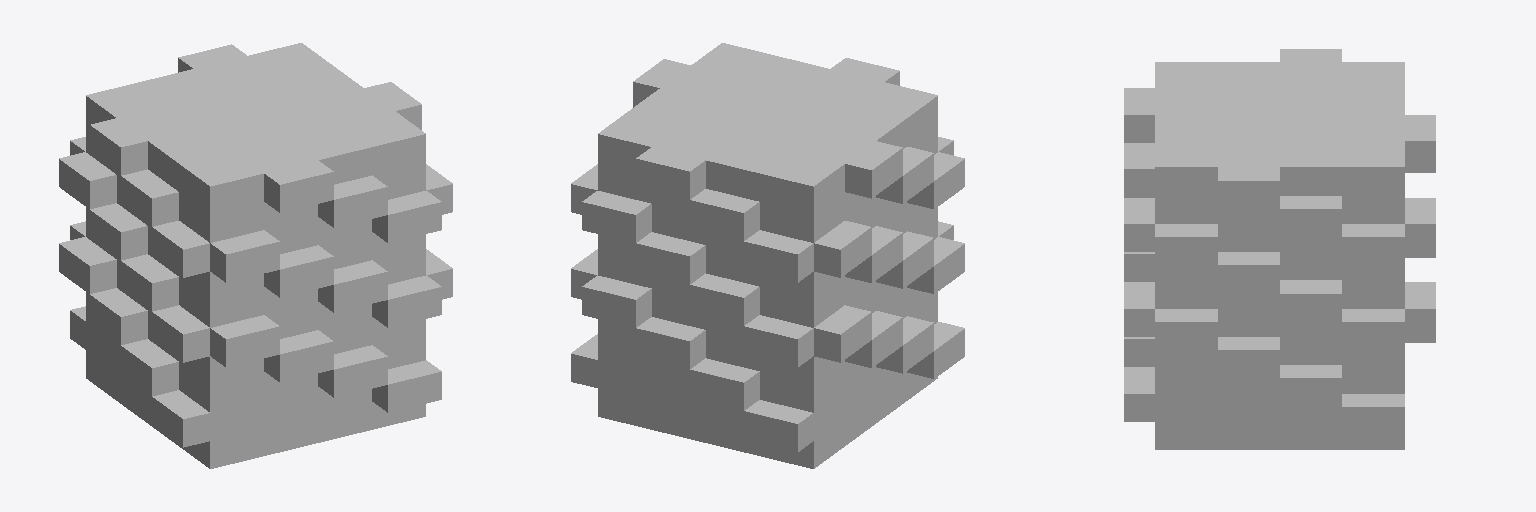
The model's file is fire tower.obj.
3 renders of one model, left to right at view 1: azimuth 30°, elevation 25°; view 2: azimuth 150°, elevation 25°; view 3: azimuth 270°, elevation 25°, orthographic.
Parts seen in each view (by area): view 1: object 1; view 2: object 1; view 3: object 1.
Boxes of the visible parts, x1,y1,x2,y2 form: object 1: [59, 43, 452, 468]; object 1: [571, 43, 964, 468]; object 1: [1124, 49, 1435, 449].
Bounding box in the file's own units: 1 × 1 × 1.